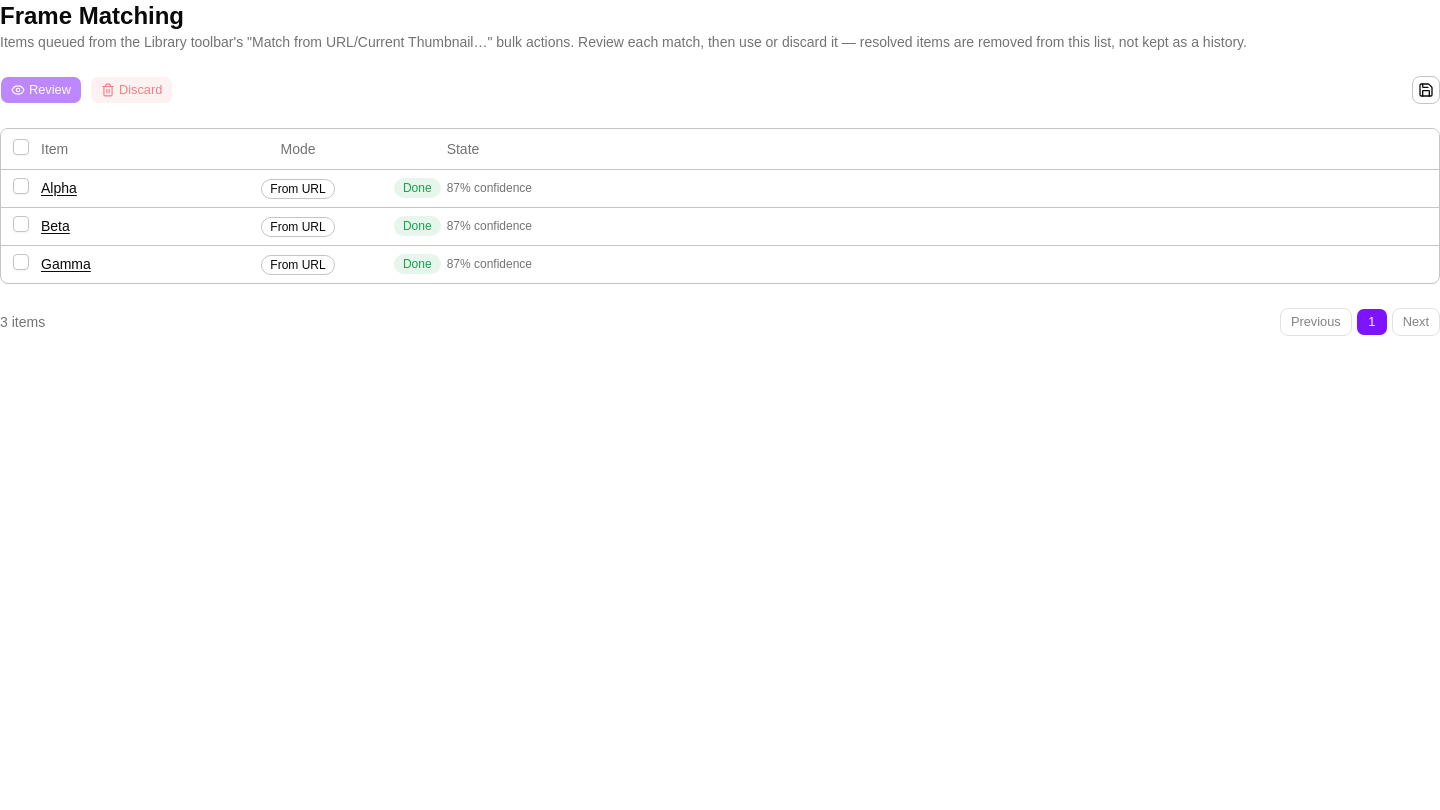
Test: FrameMatchingPage table › Discard confirms with the count and discards every selected id
Expected: the link "Alpha" is shown, [41,180,77,196]
Press the mouse on the text "Alpha" at (720, 188), box [1,169,1439,207]
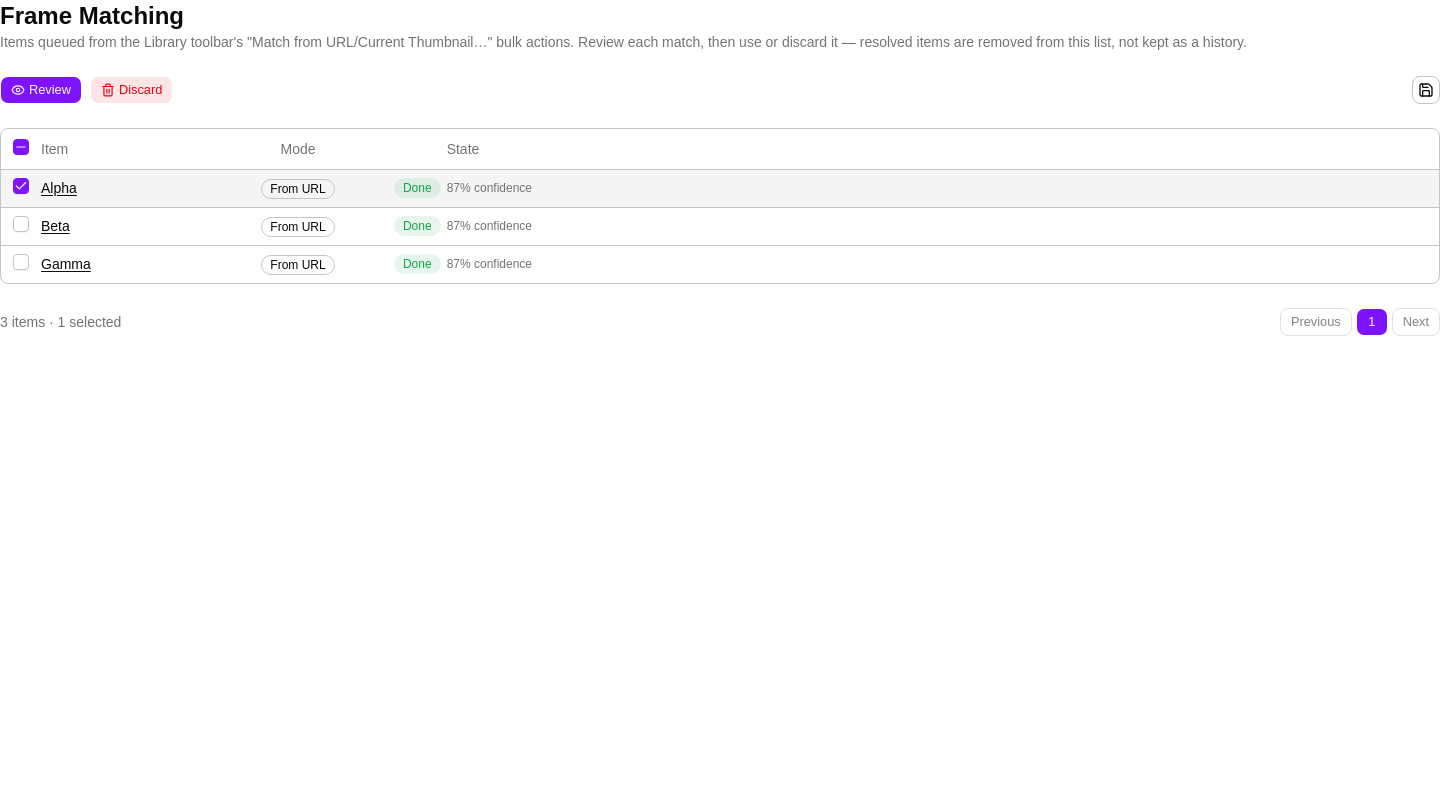
Press the mouse on the text "Gamma" at (298, 264), box [1,245,1439,282]
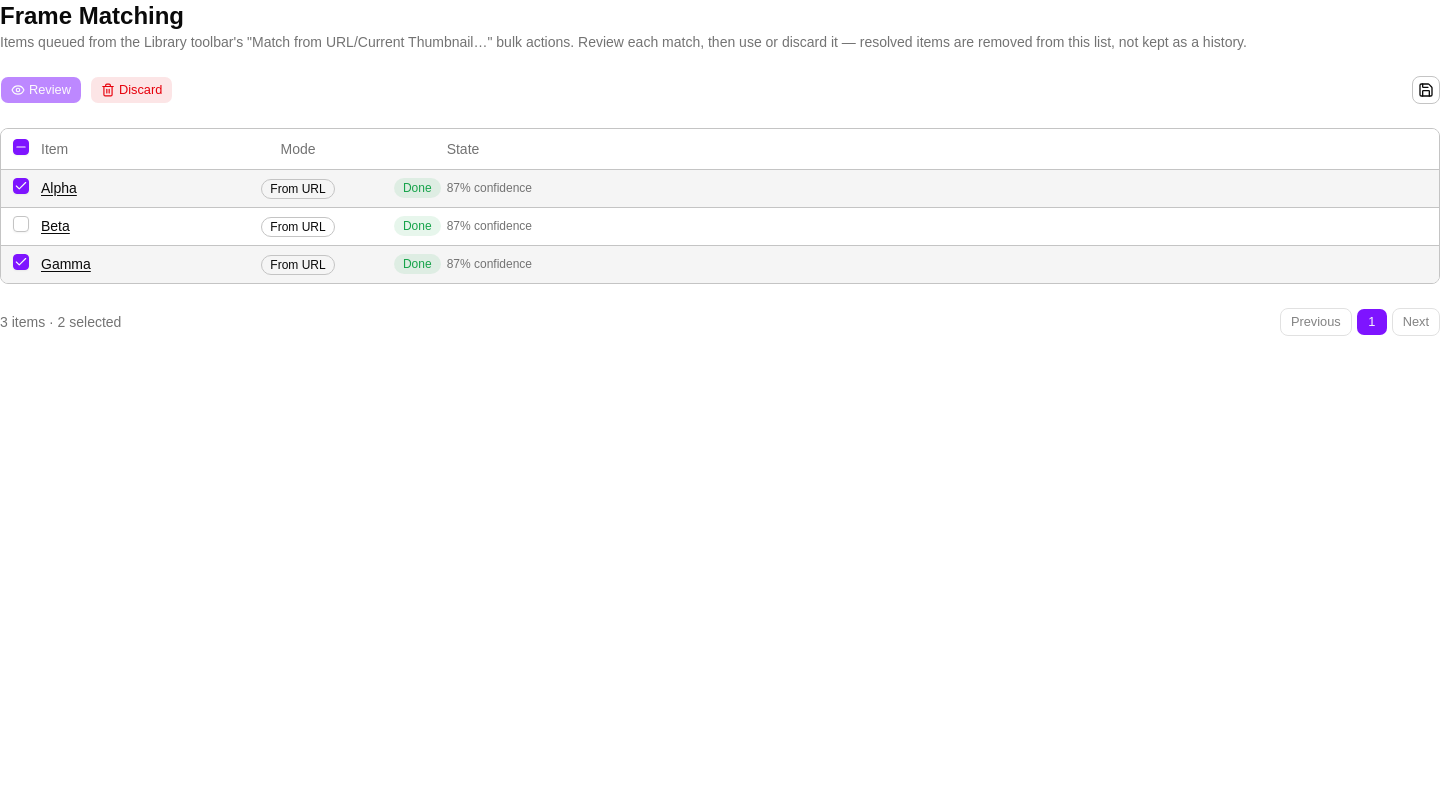
Click the button "Discard" at (132, 90), box [90,76,173,104]
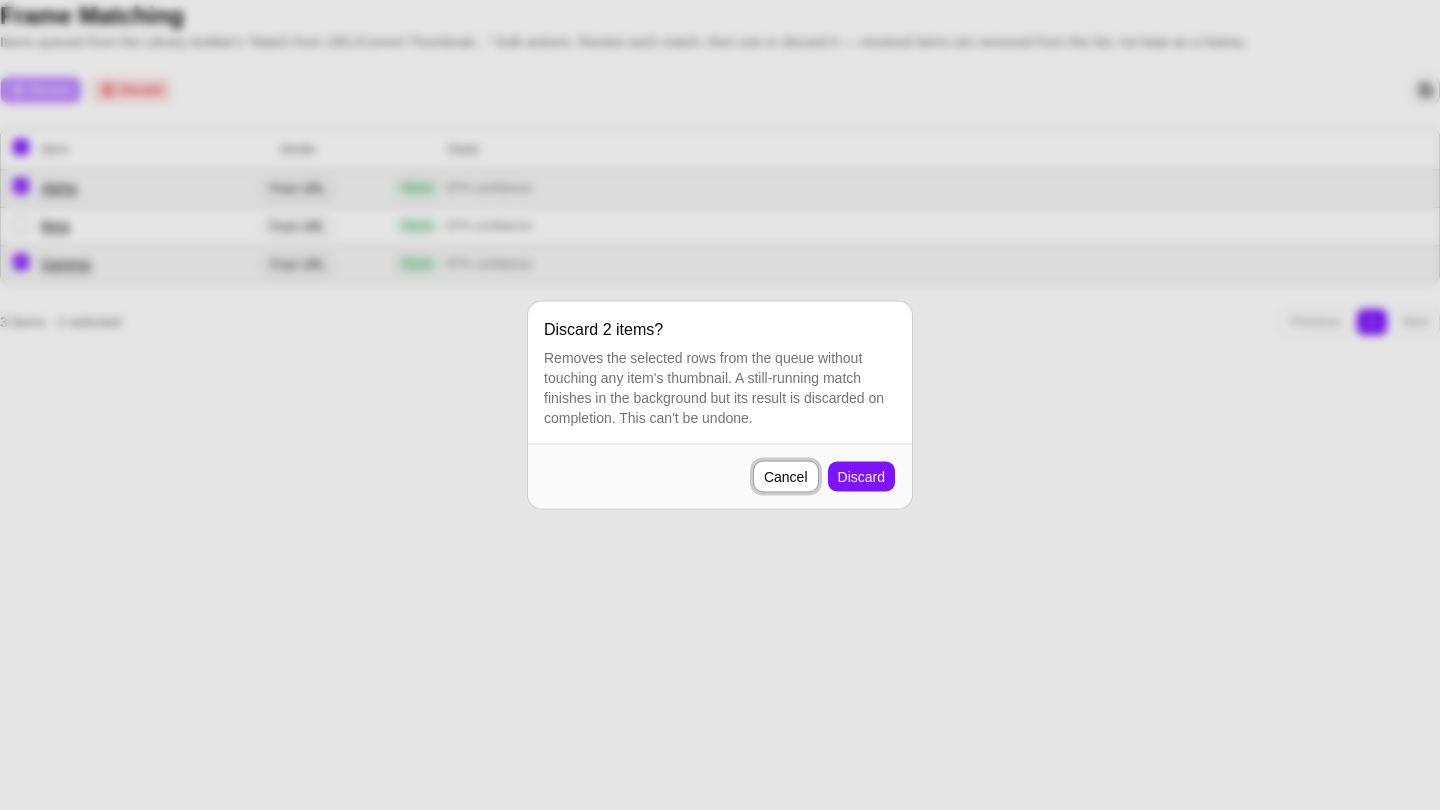
Expected: the heading "Discard 2 items?" is shown, [544,318,663,342]
Click the button "Discard" at (861, 476), box [826,460,896,492]
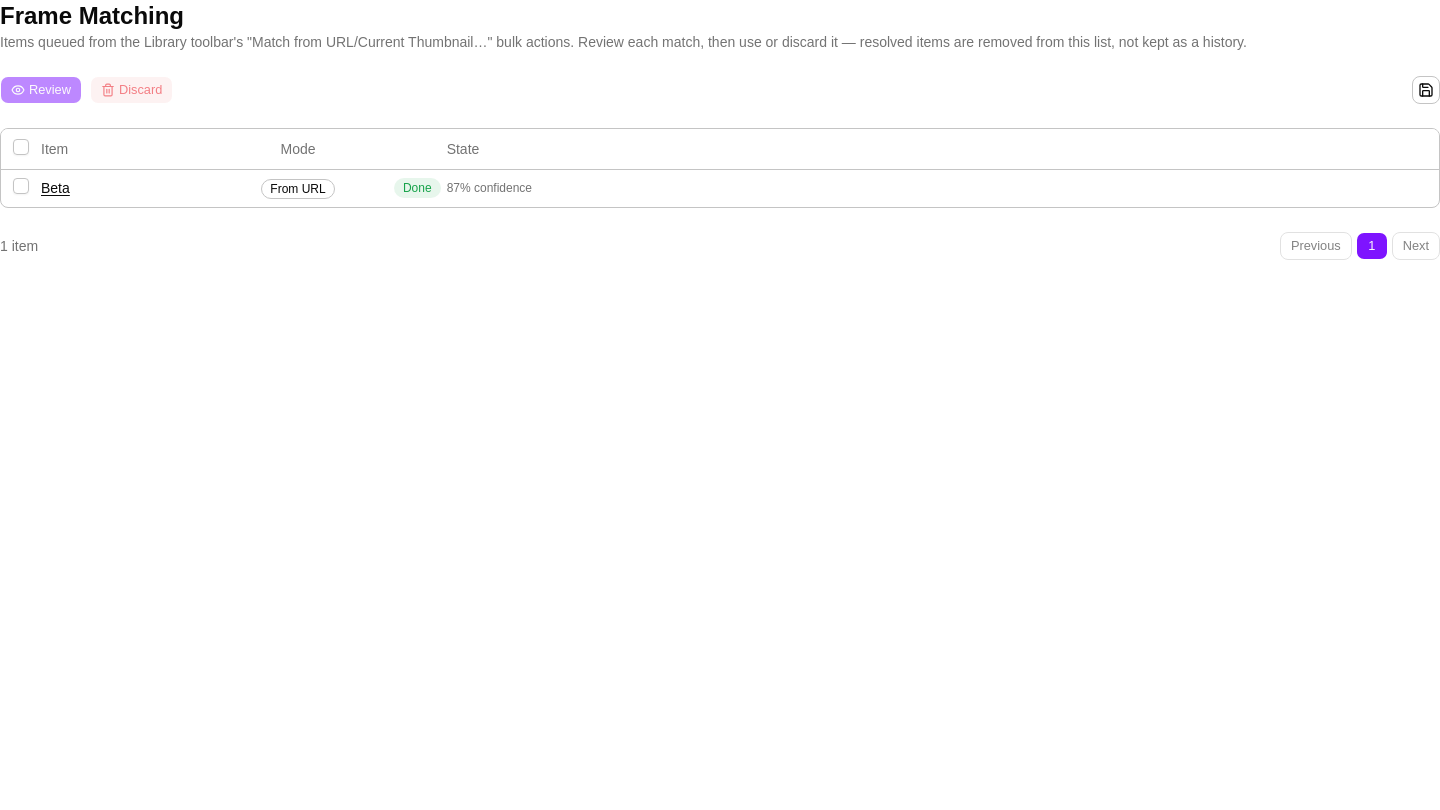
Expected: the link "Alpha" is gone
Expected: the text "1 item" is shown, [0,236,38,256]
Expected: the button "Discard" is disabled, [90,76,173,104]
